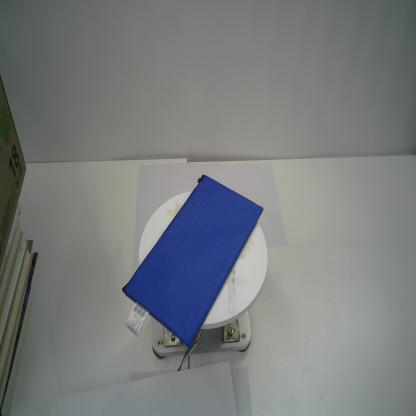Stationery: (119, 173, 263, 351)
